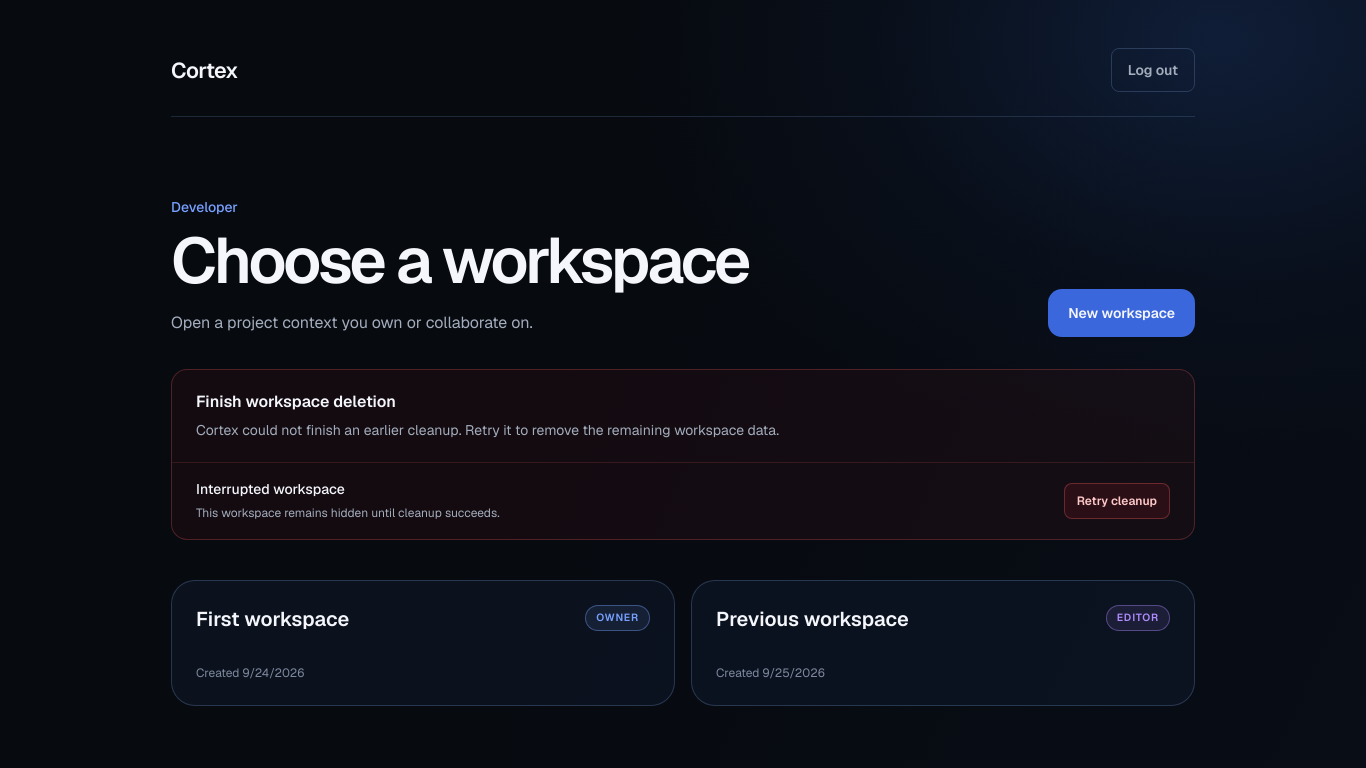
Test: WorkspaceSelector › retries a persisted deletion with its original confirmation
Click the button "Retry cleanup": (1117, 501) left=1064, top=483, right=1170, bottom=519
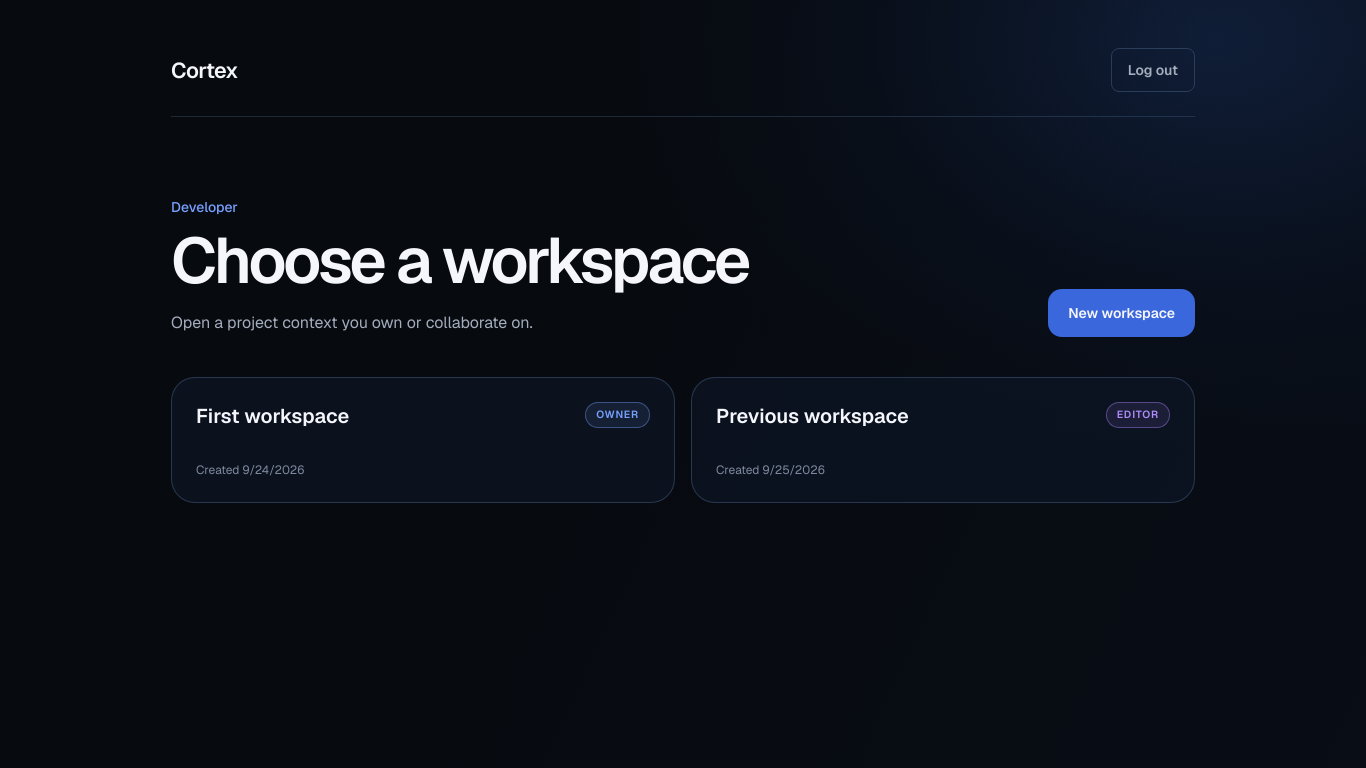
Now the heading "Finish workspace deletion" is gone
